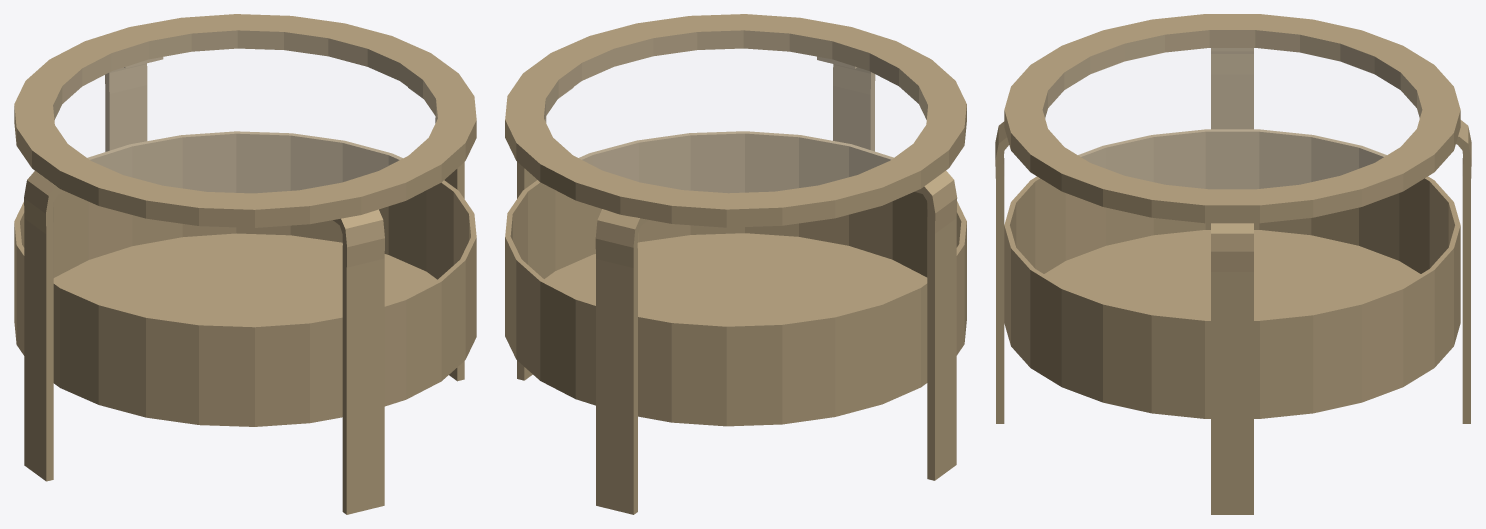
File: CircleTable1.fbx
The picture shows the model from 3 angles, left to right: view 1: azimuth 30°, elevation 25°; view 2: azimuth 150°, elevation 25°; view 3: azimuth 270°, elevation 25°; orthographic projection.
Parts seen in each view (by area): view 1: CircleTable1; view 2: CircleTable1; view 3: CircleTable1.
Boxes of the visible parts, x1,y1,x2,y2 form: CircleTable1: [14, 14, 476, 514]; CircleTable1: [505, 14, 966, 514]; CircleTable1: [995, 14, 1471, 514].
Bounding box in the file's own units: 308 × 218 × 308.
